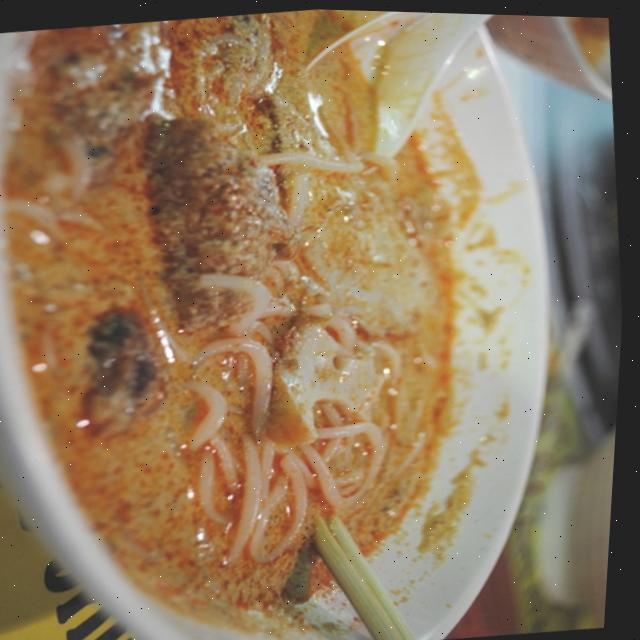面条主食: (0, 3, 627, 640)
